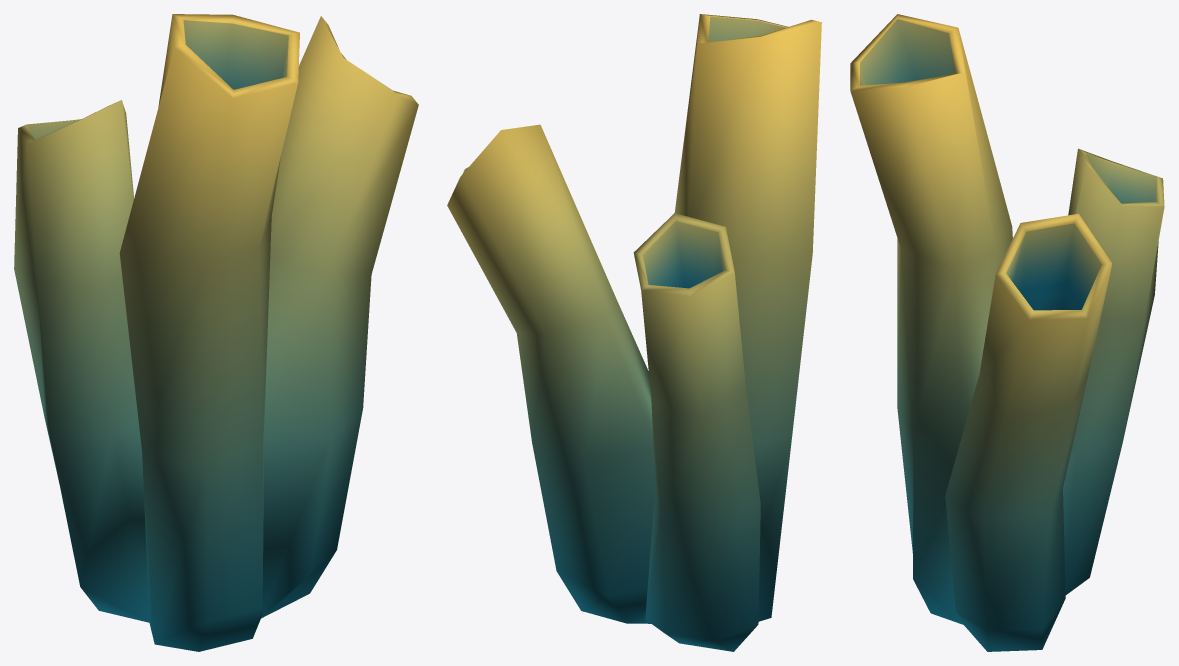
The model's file is plants_tube.FBX.
3 renders of one model, left to right at view 1: azimuth 30°, elevation 25°; view 2: azimuth 150°, elevation 25°; view 3: azimuth 270°, elevation 25°, orthographic. The views are drawn at different scales.
Visible parts, largest first — view 1: plants_tube_LOD00; view 2: plants_tube_LOD00; view 3: plants_tube_LOD00.
Part boxes in pixels (box(x1,y1,x2,y2)): plants_tube_LOD00: box(14, 14, 418, 651); plants_tube_LOD00: box(447, 14, 821, 651); plants_tube_LOD00: box(850, 14, 1164, 651).
Size of what is drawn, in the model's own units: 0.4681 by 0.809 by 0.4129.
1 material, 1 textured.
